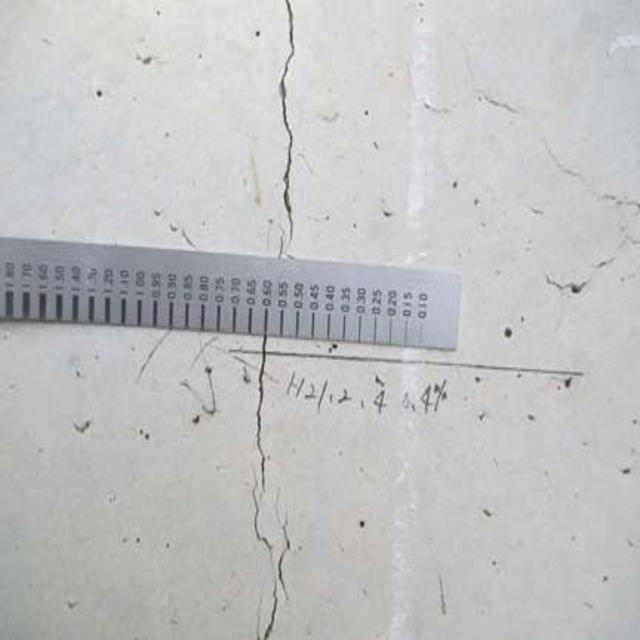crack: (221, 328, 295, 640), (253, 3, 318, 264)
